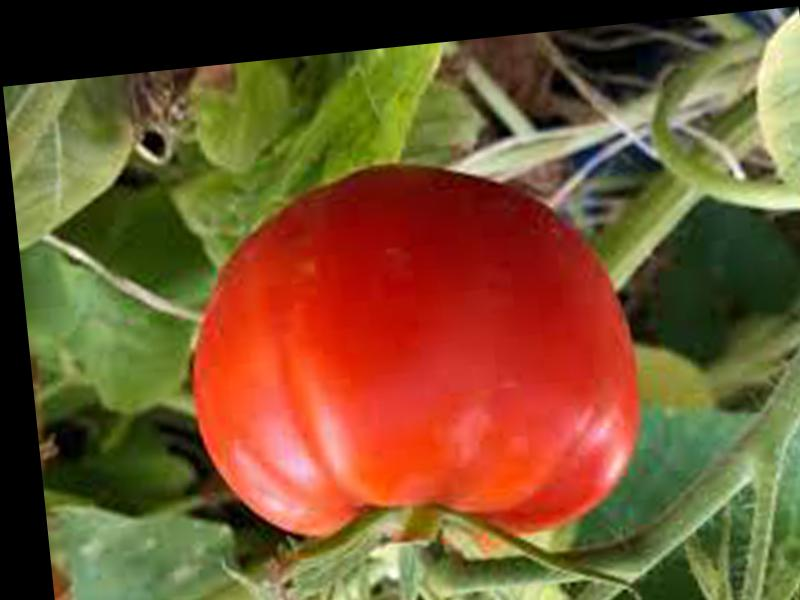Tomato: (172, 146, 655, 564)
